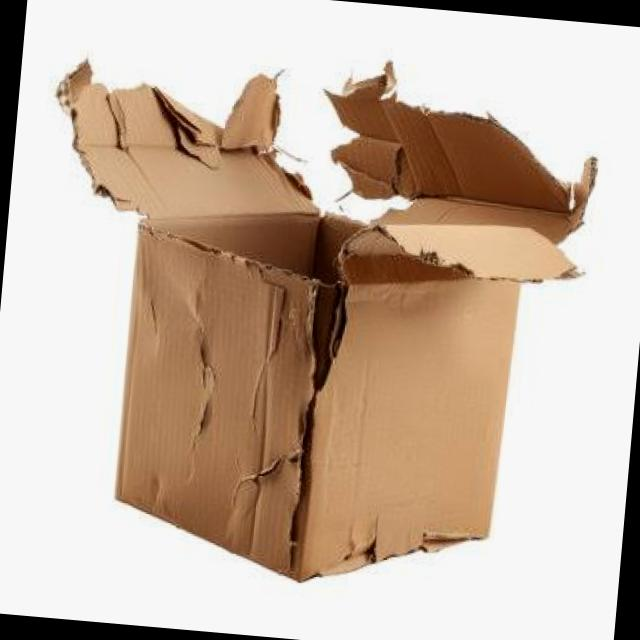package_damage: (32, 64, 556, 501)
